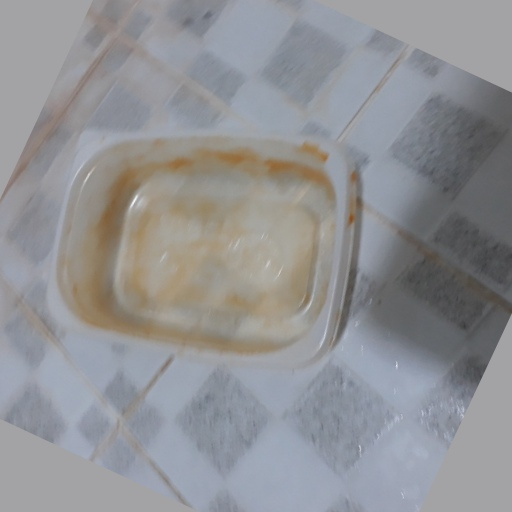Plastic_4: (46, 130, 359, 366)
